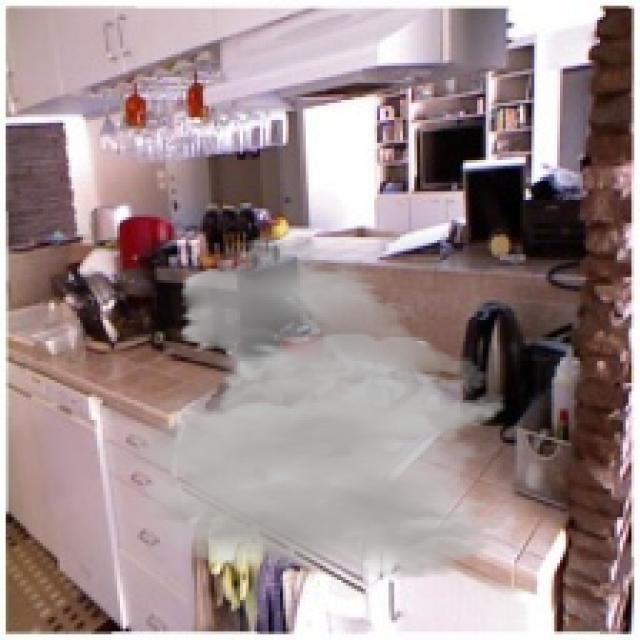Smoke: (89, 223, 508, 580)
